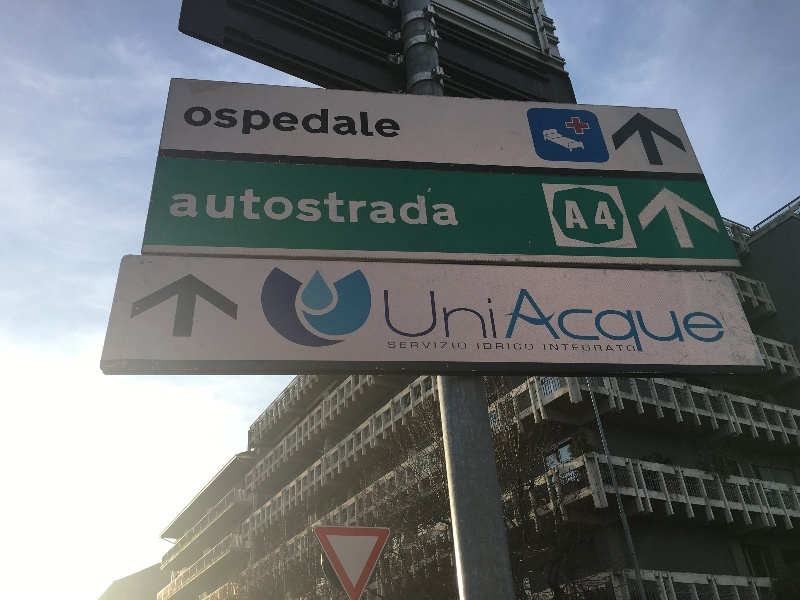text: (385, 285, 400, 354), (401, 285, 416, 354), (417, 285, 432, 354), (433, 285, 448, 354), (449, 285, 464, 354), (465, 285, 480, 354), (481, 285, 496, 354), (497, 285, 512, 354), (513, 285, 528, 354), (529, 285, 544, 354), (545, 285, 560, 354), (561, 285, 576, 354), (577, 285, 592, 354), (593, 285, 608, 354), (609, 285, 624, 354), (625, 285, 640, 354), (641, 285, 656, 354), (657, 285, 672, 354), (673, 285, 688, 354), (689, 285, 704, 354), (705, 285, 720, 354), (721, 285, 734, 354), (449, 185, 465, 230), (193, 100, 208, 147), (209, 100, 224, 147), (225, 100, 240, 147), (241, 100, 256, 147), (257, 100, 272, 147), (273, 100, 288, 147), (289, 100, 304, 147), (305, 100, 320, 147), (321, 100, 336, 147), (337, 100, 352, 147), (353, 100, 368, 147), (369, 100, 384, 147), (385, 100, 400, 147), (177, 185, 192, 230), (193, 185, 208, 230), (209, 185, 224, 230), (225, 185, 240, 230), (241, 185, 256, 230), (257, 185, 272, 230), (273, 185, 288, 230), (289, 185, 304, 230), (305, 185, 320, 230), (321, 185, 336, 230), (337, 185, 352, 230), (353, 185, 368, 230), (369, 185, 384, 230), (385, 185, 400, 230), (401, 185, 416, 230), (417, 185, 432, 230), (433, 185, 448, 230), (577, 197, 592, 234), (593, 198, 608, 233), (564, 197, 576, 234), (183, 100, 192, 147), (609, 198, 620, 233), (169, 185, 176, 230), (401, 100, 406, 147), (481, 340, 496, 352), (497, 340, 512, 352), (513, 340, 528, 352), (545, 342, 560, 354), (561, 342, 576, 354), (577, 342, 592, 354), (593, 342, 608, 354), (609, 342, 624, 354), (401, 340, 416, 351), (417, 340, 432, 351), (433, 340, 448, 351), (449, 340, 464, 351), (625, 342, 638, 354), (386, 340, 400, 351), (382, 285, 384, 354), (529, 340, 535, 352), (590, 198, 592, 233), (476, 340, 480, 352), (465, 340, 469, 351), (542, 342, 544, 354)
